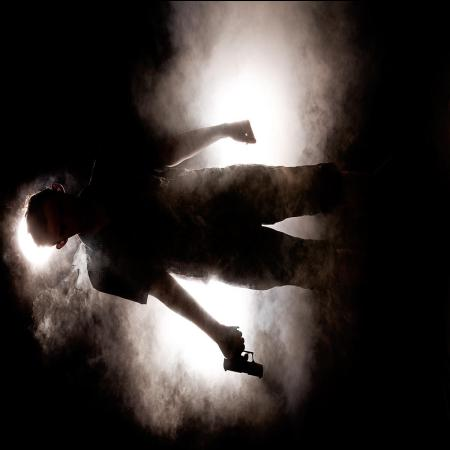Pistol: (220, 320, 266, 383)
